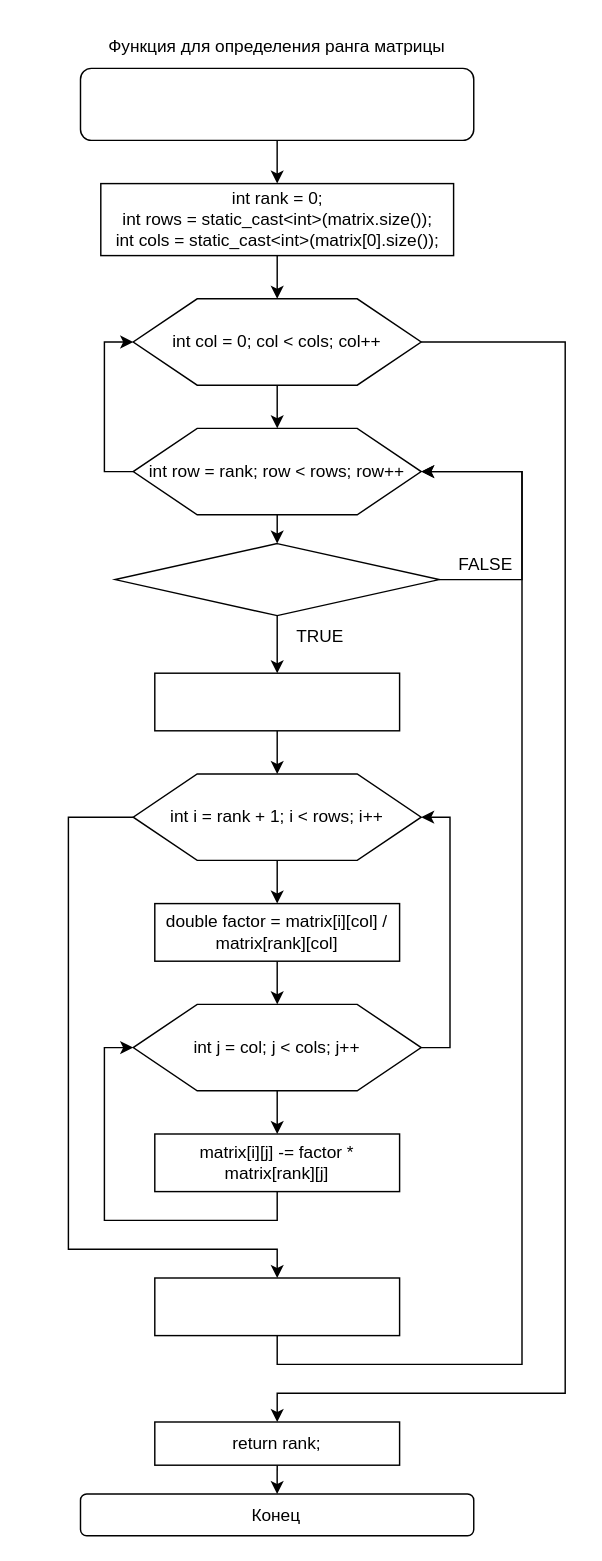
The diagram is 602 pixels wide and 1561 high, and some of its shapes have lost their labels. Each missing label, with the box of its shape:
int findRank(std::vector<std::vector<double>>& matrix): (79, 67, 474, 140)
matrix[row][col] != 0: (114, 542, 439, 616)
rank++; break;: (153, 1277, 400, 1336)
std::swap(matrix[row], matrix[rank]);: (153, 672, 400, 731)
